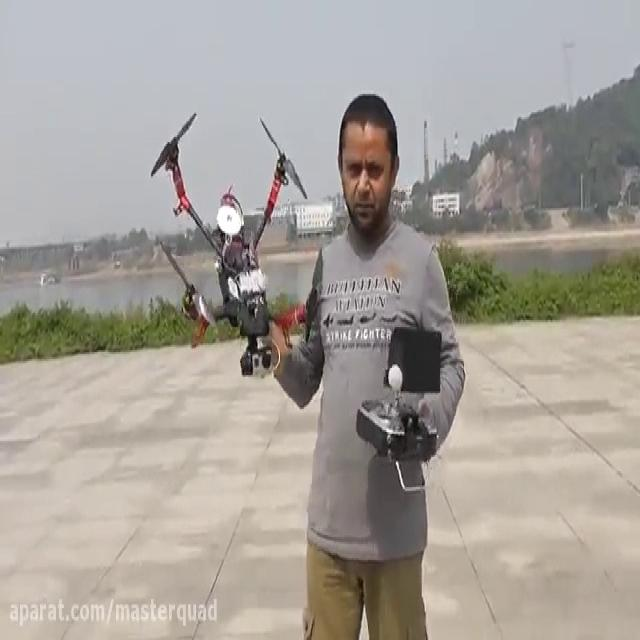drone: (148, 112, 323, 379)
